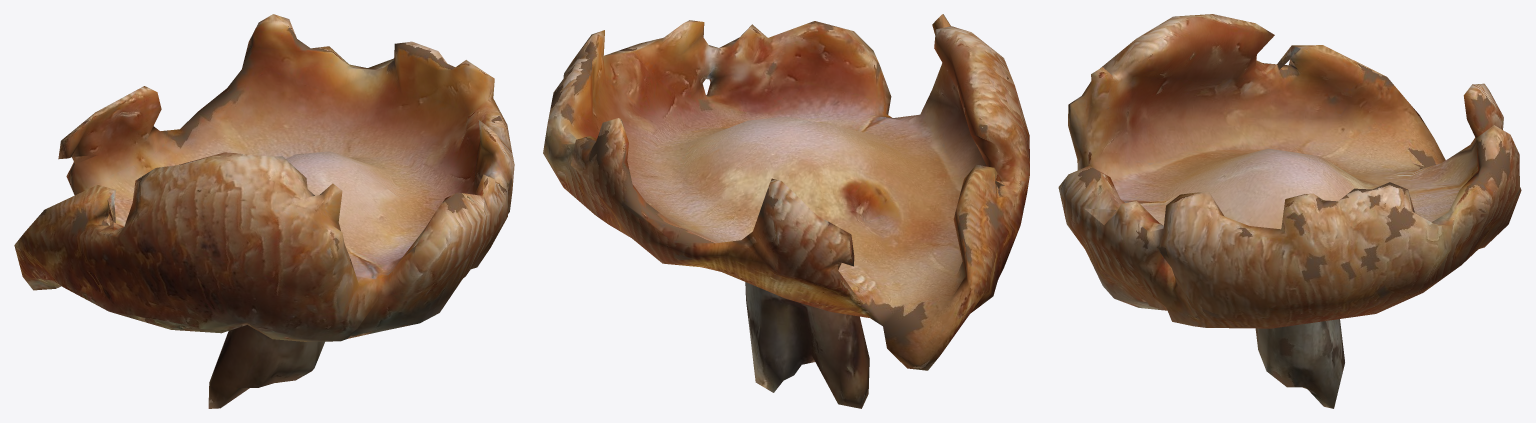
The model's file is panus-en-enventail.glb.
The picture shows the model from 3 angles, left to right: view 1: azimuth 30°, elevation 25°; view 2: azimuth 150°, elevation 25°; view 3: azimuth 270°, elevation 25°; orthographic projection. The views are drawn at different scales.
Parts seen in each view (by area): view 1: mushroom_10; view 2: mushroom_10; view 3: mushroom_10.
Boxes of the visible parts, bbox=[...] form: mushroom_10: bbox=[14, 14, 514, 408]; mushroom_10: bbox=[543, 14, 1029, 408]; mushroom_10: bbox=[1058, 14, 1521, 408].
Bounding box in the file's own units: 7.43 × 5.18 × 6.54.
Materials: 1 (1 with a texture image).
